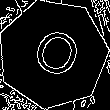O_S: (23, 23, 83, 86)
